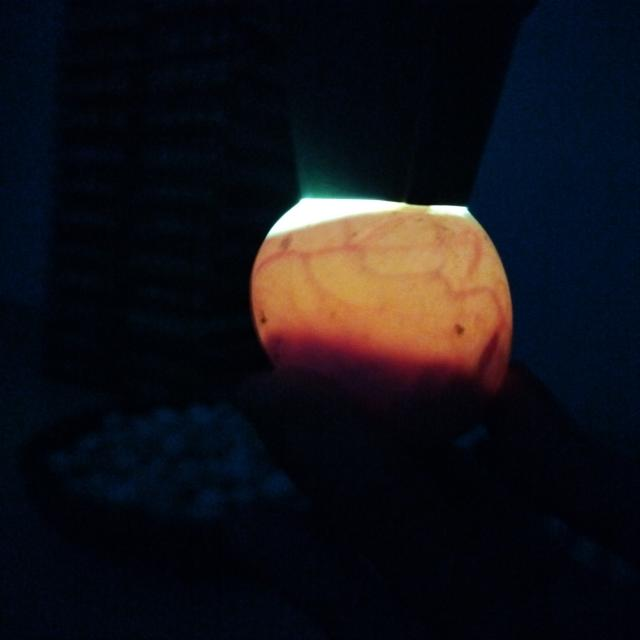Embriao: (269, 334, 501, 448)
